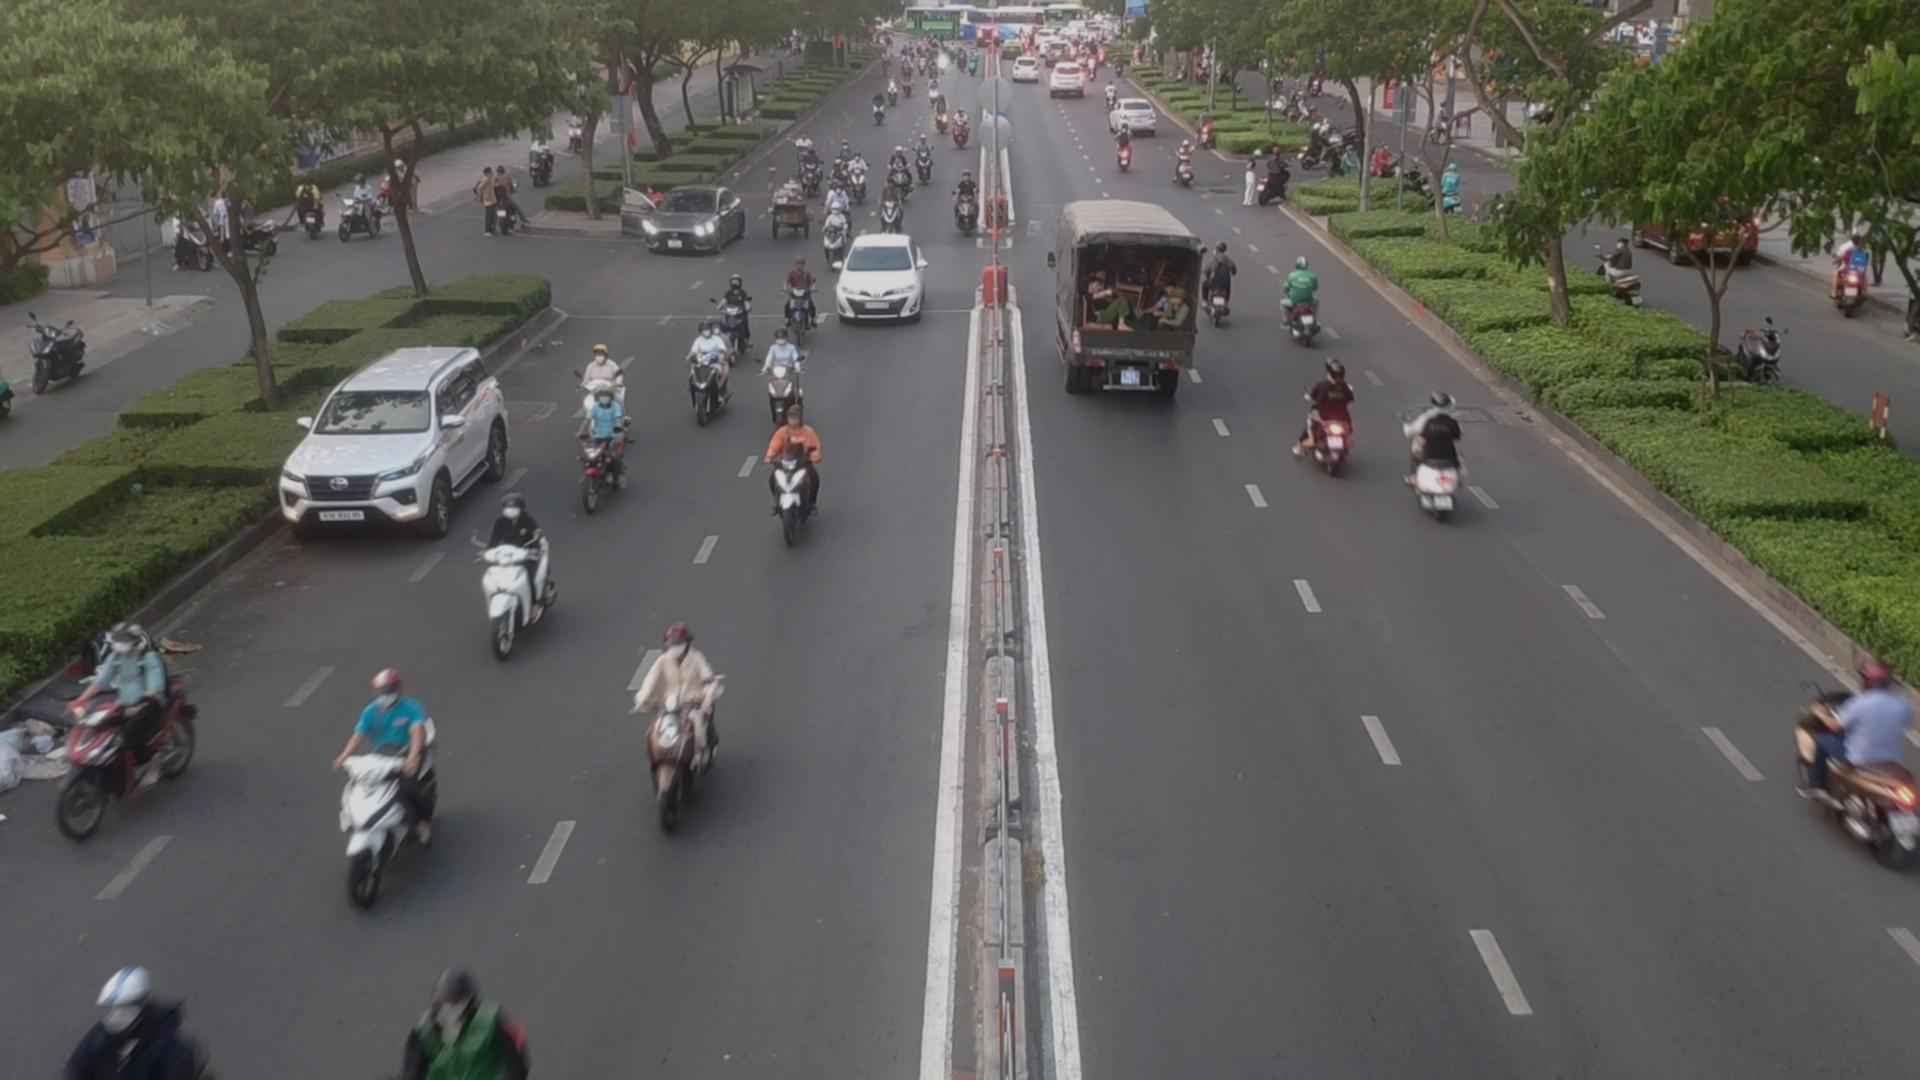car: (285, 349, 521, 541), (620, 191, 752, 258), (835, 243, 930, 328)
motorbike: (38, 618, 200, 832), (1785, 676, 1920, 876), (338, 674, 448, 899), (632, 633, 724, 829), (386, 975, 533, 1080), (465, 498, 563, 651), (757, 419, 837, 547), (1404, 397, 1473, 509), (578, 390, 640, 512), (1286, 369, 1360, 469), (1271, 262, 1336, 349), (684, 328, 738, 425), (783, 260, 827, 339), (765, 338, 814, 406), (713, 280, 756, 349), (1205, 239, 1236, 326), (823, 212, 855, 262), (952, 189, 981, 236), (1105, 135, 1139, 171), (884, 158, 911, 200), (800, 156, 829, 194), (916, 146, 940, 185)
